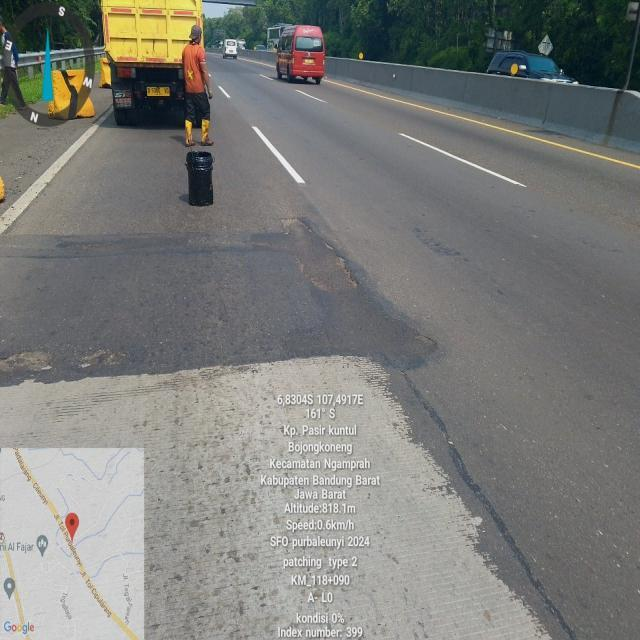Buraco: (276, 216, 362, 296), (0, 347, 57, 378)
